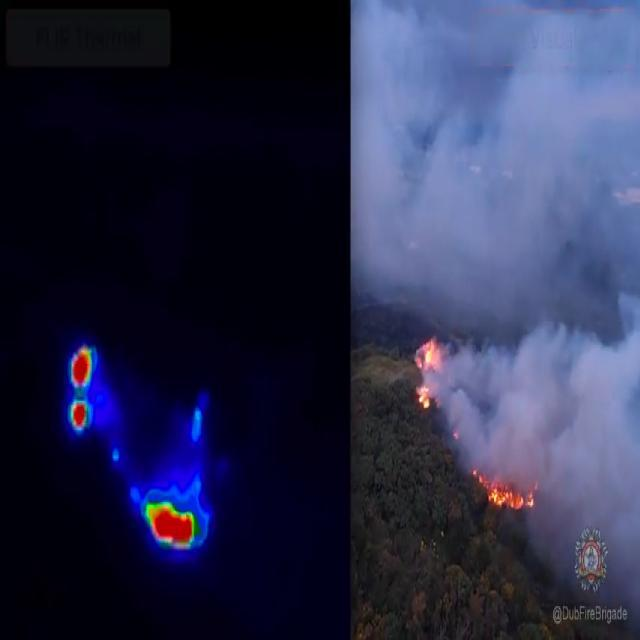fire: (143, 498, 199, 553), (69, 341, 98, 436)
